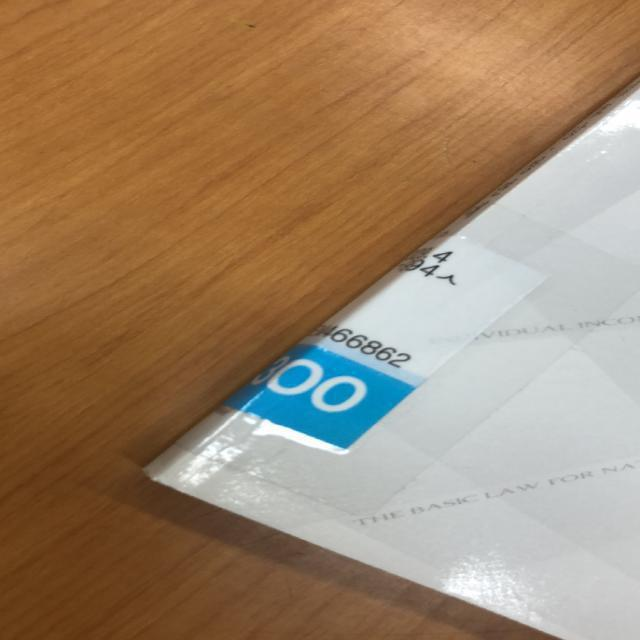Wornout: (136, 457, 179, 495)
